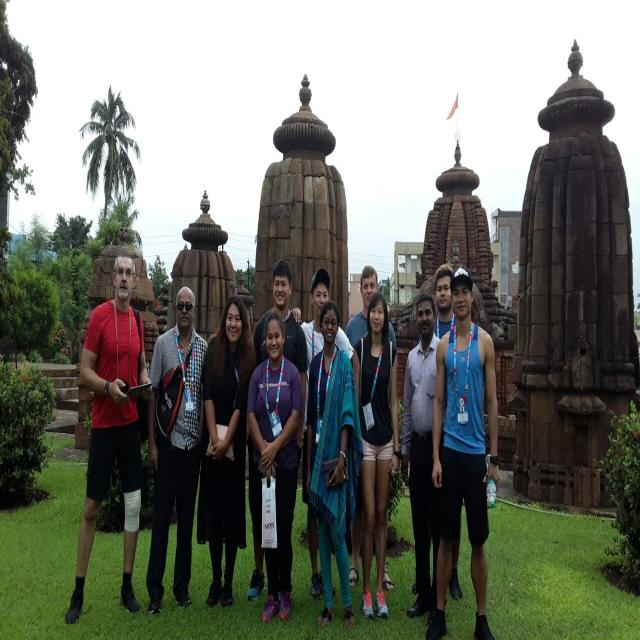body: (62, 248, 154, 628), (420, 263, 502, 639), (289, 265, 363, 603), (244, 256, 310, 605), (143, 283, 210, 617), (303, 296, 365, 632), (244, 306, 306, 626), (410, 261, 464, 603), (196, 294, 254, 611), (350, 289, 402, 624), (344, 264, 397, 592), (401, 292, 445, 618)
